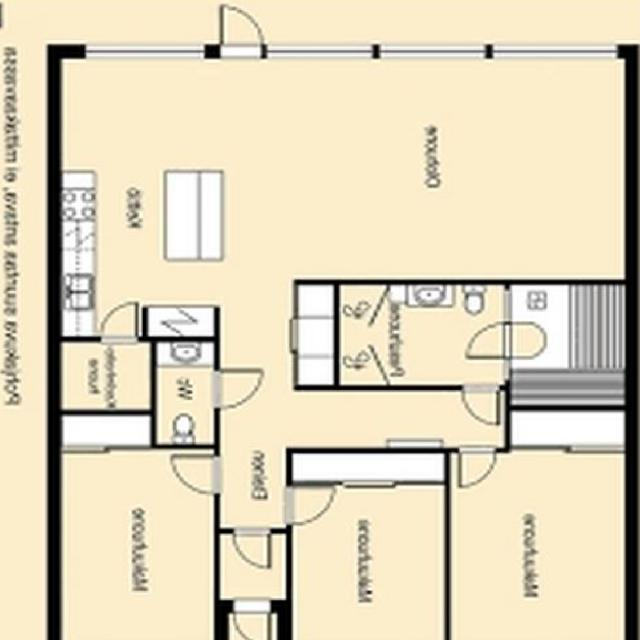door: (222, 9, 262, 57), (174, 456, 218, 493), (215, 371, 258, 408), (287, 488, 330, 524), (467, 323, 510, 358), (234, 600, 270, 640), (463, 386, 499, 423), (460, 449, 495, 486), (234, 530, 269, 566), (102, 307, 136, 342)
